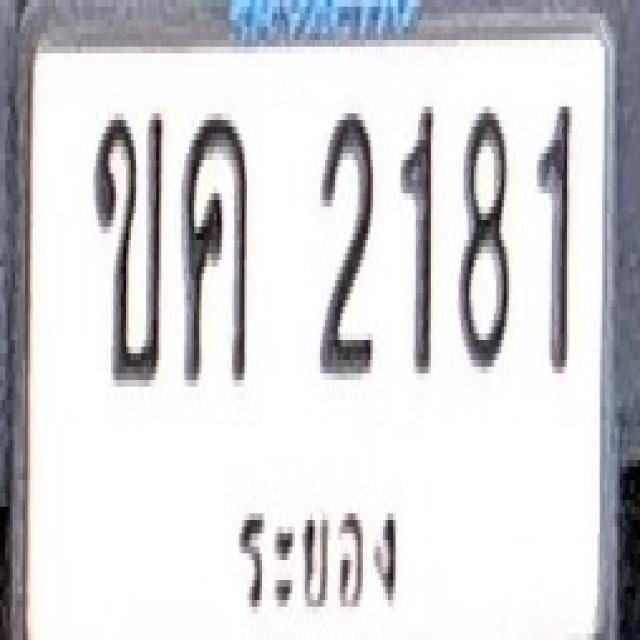1: (534, 100, 572, 373), (398, 100, 433, 373)
2: (317, 107, 373, 380)
8: (456, 103, 509, 370)
A02: (92, 106, 162, 386)
A04: (180, 110, 248, 383)
RYG: (225, 484, 408, 639)
